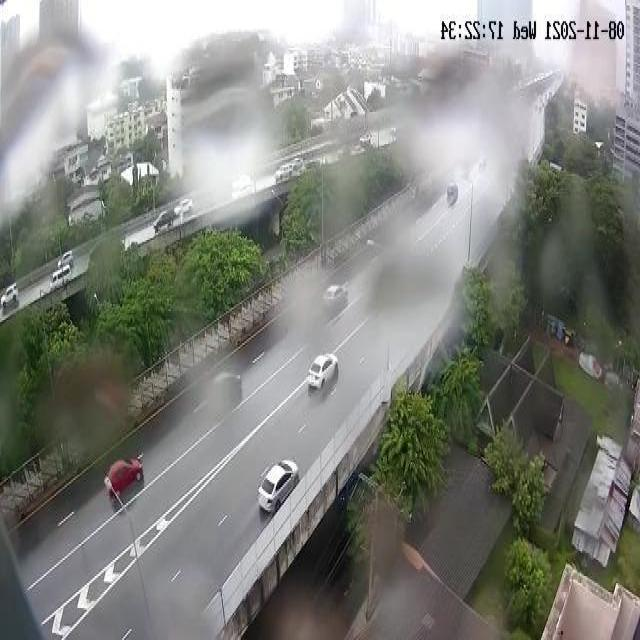Car: (102, 452, 153, 504), (253, 468, 296, 528), (302, 350, 344, 410), (204, 360, 249, 413), (321, 268, 356, 314), (0, 270, 20, 324), (173, 196, 196, 228), (48, 262, 72, 292), (278, 163, 294, 194)
